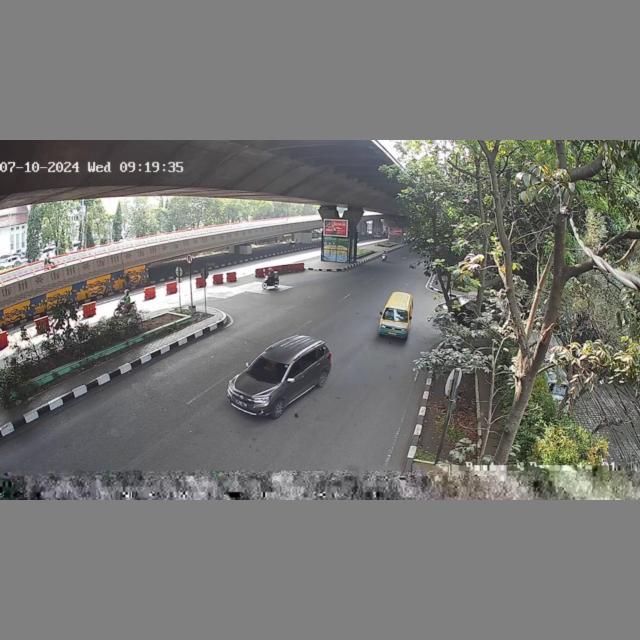windshield: (244, 357, 291, 386), (383, 308, 409, 324)
